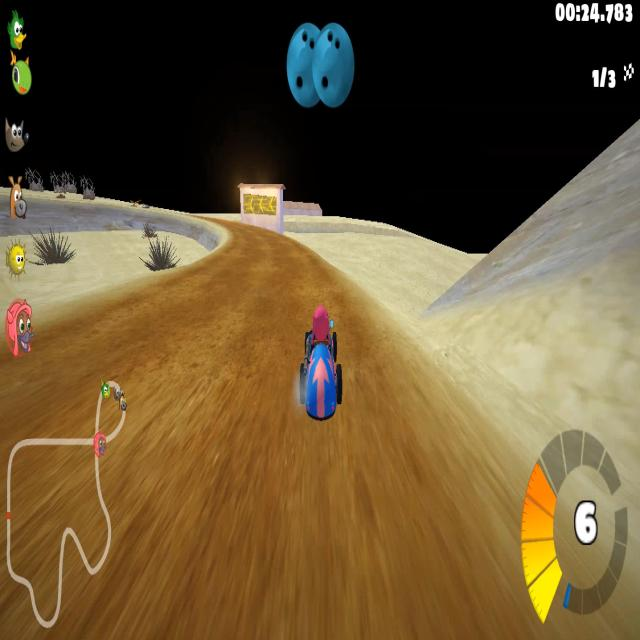off_track: (327, 208, 539, 276), (33, 215, 182, 268)
player_kart: (297, 305, 346, 429)
track: (194, 226, 288, 587)
